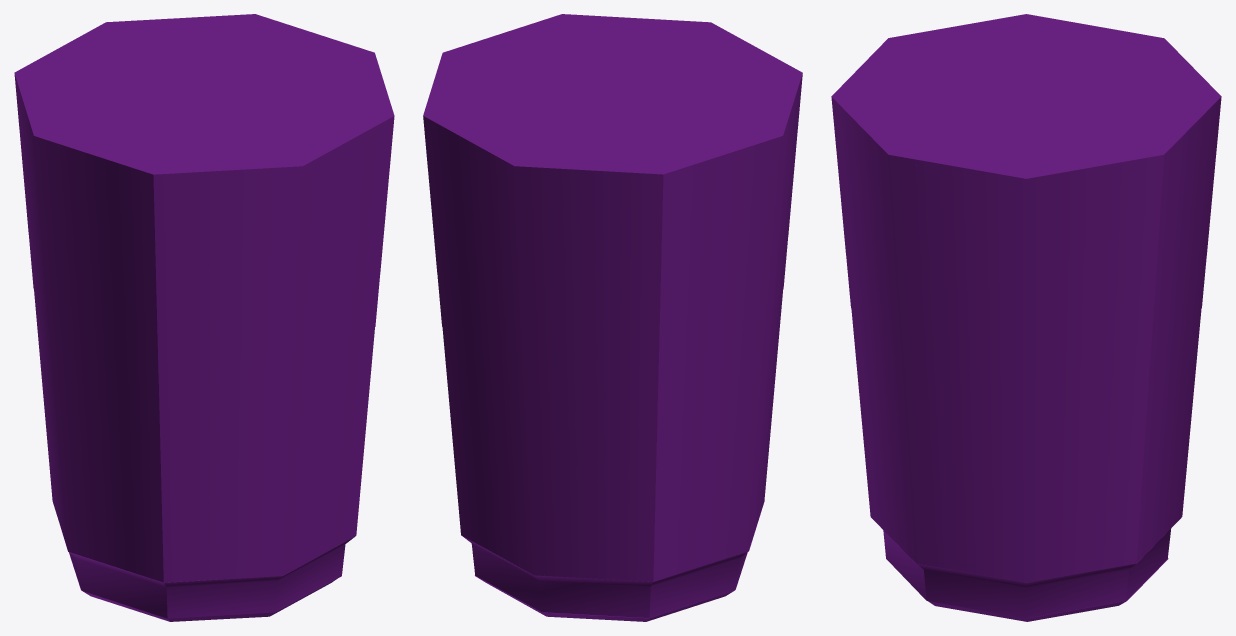
Rendered from grape_soda.fbx.
3 renders of one model, left to right at view 1: azimuth 30°, elevation 25°; view 2: azimuth 150°, elevation 25°; view 3: azimuth 270°, elevation 25°, orthographic.
Parts seen in each view (by area): view 1: Fill_Top8, Fill_Top1, Fill_Top2, Fill_Top3, Fill_Top5, Fill_Top6, Fill_Top4, Fill_Top7, Fill_Middle, Fill_Bottom; view 2: Fill_Top8, Fill_Top1, Fill_Top2, Fill_Top3, Fill_Top5, Fill_Top6, Fill_Top4, Fill_Top7, Fill_Middle, Fill_Bottom; view 3: Fill_Top8, Fill_Top1, Fill_Top2, Fill_Top3, Fill_Top5, Fill_Top6, Fill_Top4, Fill_Top7, Fill_Middle, Fill_Bottom.
Boxes of the visible parts, x1,y1,x2,y2 form: Fill_Top8: [14, 14, 394, 226]; Fill_Top1: [19, 128, 389, 277]; Fill_Top2: [24, 181, 384, 328]; Fill_Top3: [29, 236, 379, 379]; Fill_Top5: [38, 339, 370, 479]; Fill_Top6: [43, 393, 365, 530]; Fill_Top4: [34, 290, 374, 427]; Fill_Top7: [48, 448, 360, 582]; Fill_Middle: [62, 534, 355, 618]; Fill_Bottom: [69, 553, 336, 621]; Fill_Top8: [423, 14, 802, 225]; Fill_Top1: [428, 128, 797, 277]; Fill_Top2: [432, 181, 793, 328]; Fill_Top3: [437, 236, 788, 379]; Fill_Top5: [447, 340, 778, 478]; Fill_Top6: [451, 393, 773, 530]; Fill_Top4: [442, 291, 782, 427]; Fill_Top7: [456, 447, 769, 581]; Fill_Middle: [461, 501, 764, 617]; Fill_Bottom: [475, 575, 734, 621]; Fill_Top8: [831, 14, 1221, 229]; Fill_Top1: [836, 150, 1216, 280]; Fill_Top2: [841, 203, 1211, 331]; Fill_Top3: [846, 256, 1206, 381]; Fill_Top5: [856, 358, 1196, 480]; Fill_Top6: [861, 411, 1191, 531]; Fill_Top4: [851, 308, 1201, 429]; Fill_Top7: [865, 464, 1186, 582]; Fill_Middle: [881, 522, 1176, 618]; Fill_Bottom: [928, 558, 1168, 621].
Bounding box in the file's own units: 79.3 × 106 × 79.29.
Materials: 1 (1 with a texture image).
